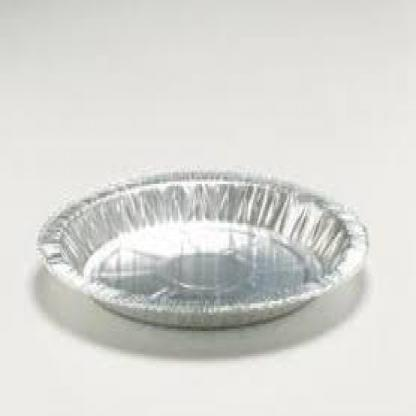METAL: (33, 168, 368, 326)
